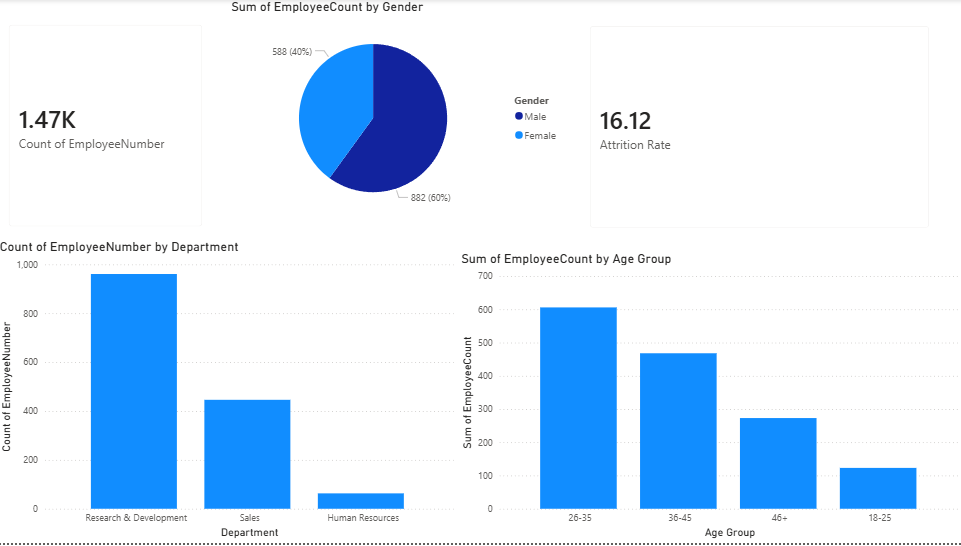

What the dashboard file says about the page in this screenshot:
{"tool":"powerbi","page":{"name":"Page 1","canvas":[1280,720],"ordinal":0},"visuals":[{"type":"pieChart","fields":{"Category":["WA_Fn-UseC_-HR-Employee-Attrition.Gender"],"Y":["Sum(WA_Fn-UseC_-HR-Employee-Attrition.EmployeeCount)"]},"box":[306.4,0,451,297.8],"z":2},{"type":"columnChart","fields":{"Category":["WA_Fn-UseC_-HR-Employee-Attrition.Age Group"],"Y":["Sum(WA_Fn-UseC_-HR-Employee-Attrition.EmployeeCount)"]},"box":[611.1,333.9,669.6,385.6],"z":3},{"type":"cardVisual","fields":{"Data":["Count(WA_Fn-UseC_-HR-Employee-Attrition.EmployeeNumber)"]},"box":[0,18,290,301],"z":4},{"type":"clusteredColumnChart","fields":{"Category":["WA_Fn-UseC_-HR-Employee-Attrition.Department"],"Y":["CountNonNull(WA_Fn-UseC_-HR-Employee-Attrition.EmployeeNumber)"]},"box":[0,318.4,611.1,401.1],"z":5},{"type":"cardVisual","fields":{"Data":["WA_Fn-UseC_-HR-Employee-Attrition.Attrition Rate"]},"box":[769.4,18.9,483.7,301.2],"z":6}]}

Visuals, with their boxes in screenshot pixels (x1, y1, x2, y2), scaled from the page's 1280x720 canvas onto the 961x546 screenshot:
pieChart - WA_Fn-UseC_-HR-Employee-Attrition.Gender x Sum(WA_Fn-UseC_-HR-Employee-Attrition.EmployeeCount): (230, 0, 569, 226)
columnChart - WA_Fn-UseC_-HR-Employee-Attrition.Age Group x Sum(WA_Fn-UseC_-HR-Employee-Attrition.EmployeeCount): (459, 253, 960, 545)
cardVisual - Count(WA_Fn-UseC_-HR-Employee-Attrition.EmployeeNumber): (0, 14, 218, 242)
clusteredColumnChart - WA_Fn-UseC_-HR-Employee-Attrition.Department x CountNonNull(WA_Fn-UseC_-HR-Employee-Attrition.EmployeeNumber): (0, 241, 459, 545)
cardVisual - WA_Fn-UseC_-HR-Employee-Attrition.Attrition Rate: (578, 14, 941, 243)
